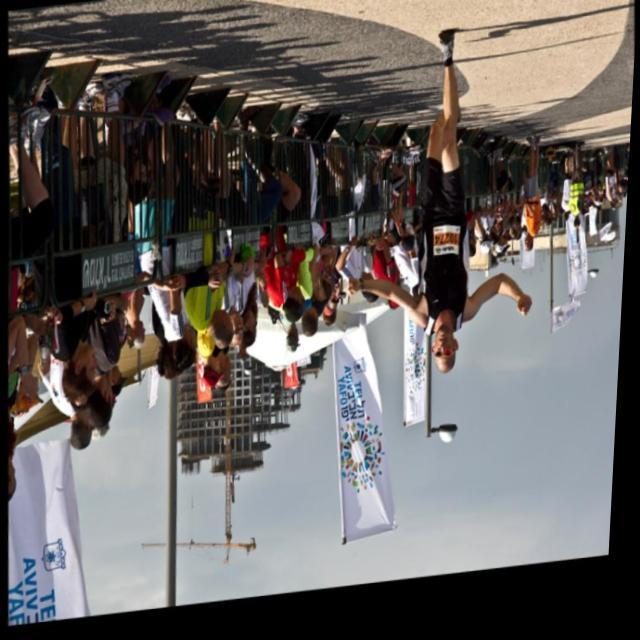dorsal: (427, 231, 462, 270)
